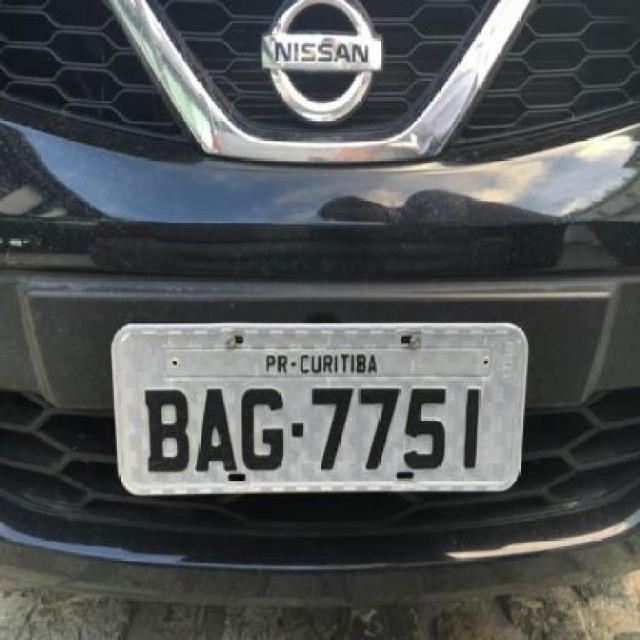old_plate: (104, 313, 535, 507)
